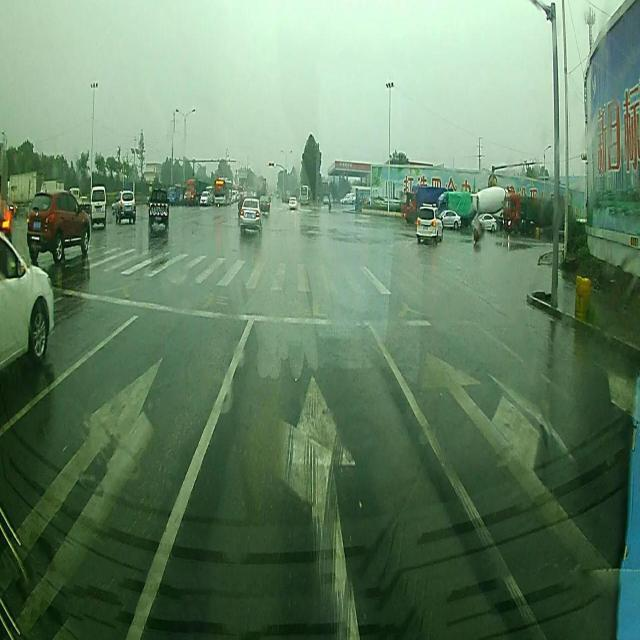car: (0, 227, 54, 374), (27, 188, 90, 262), (417, 202, 444, 248), (148, 184, 170, 234), (110, 190, 136, 226), (239, 196, 262, 234), (88, 184, 105, 224), (472, 214, 498, 232), (442, 210, 460, 230), (258, 192, 270, 212), (198, 190, 208, 206), (288, 196, 297, 210)
